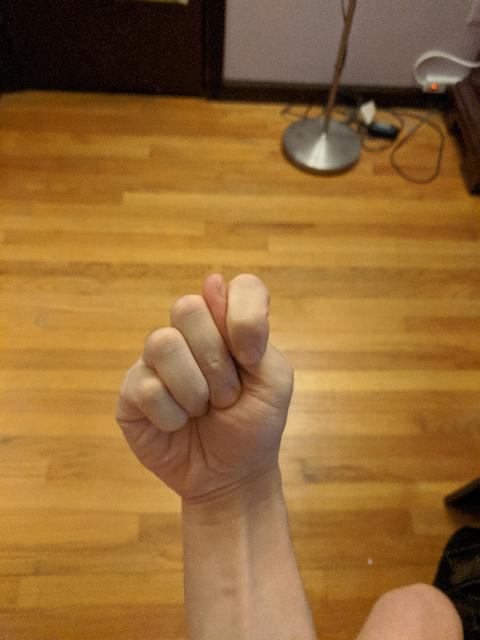T: (109, 266, 301, 508)
